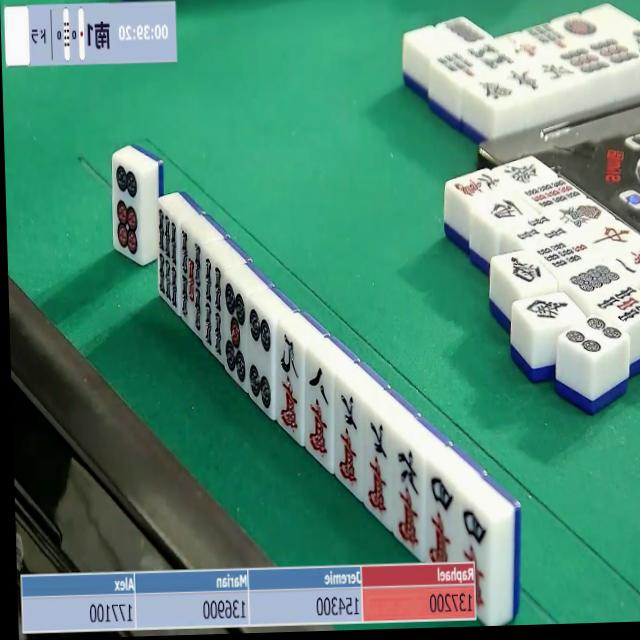1B: (558, 197, 603, 232)
4B: (199, 257, 225, 360), (517, 210, 562, 244)
4C: (421, 466, 459, 566), (459, 501, 492, 560)
4D: (248, 299, 274, 413), (565, 315, 622, 366)
5B: (176, 232, 207, 334), (598, 284, 640, 322)
5D: (224, 276, 247, 384)
6B: (156, 208, 183, 311)
6C: (393, 439, 424, 556), (452, 169, 499, 200)
6D: (110, 156, 153, 264)
7B: (538, 233, 590, 274)
7C: (335, 386, 360, 488), (365, 415, 390, 516)
8C: (300, 357, 335, 466)
8D: (561, 258, 626, 301)
9B: (522, 175, 581, 210)
9C: (274, 328, 303, 438)
GD: (502, 156, 537, 185), (480, 78, 512, 107)
RD: (592, 218, 634, 254)
SW: (522, 292, 568, 334), (508, 253, 540, 289)
WW: (487, 194, 522, 225)
